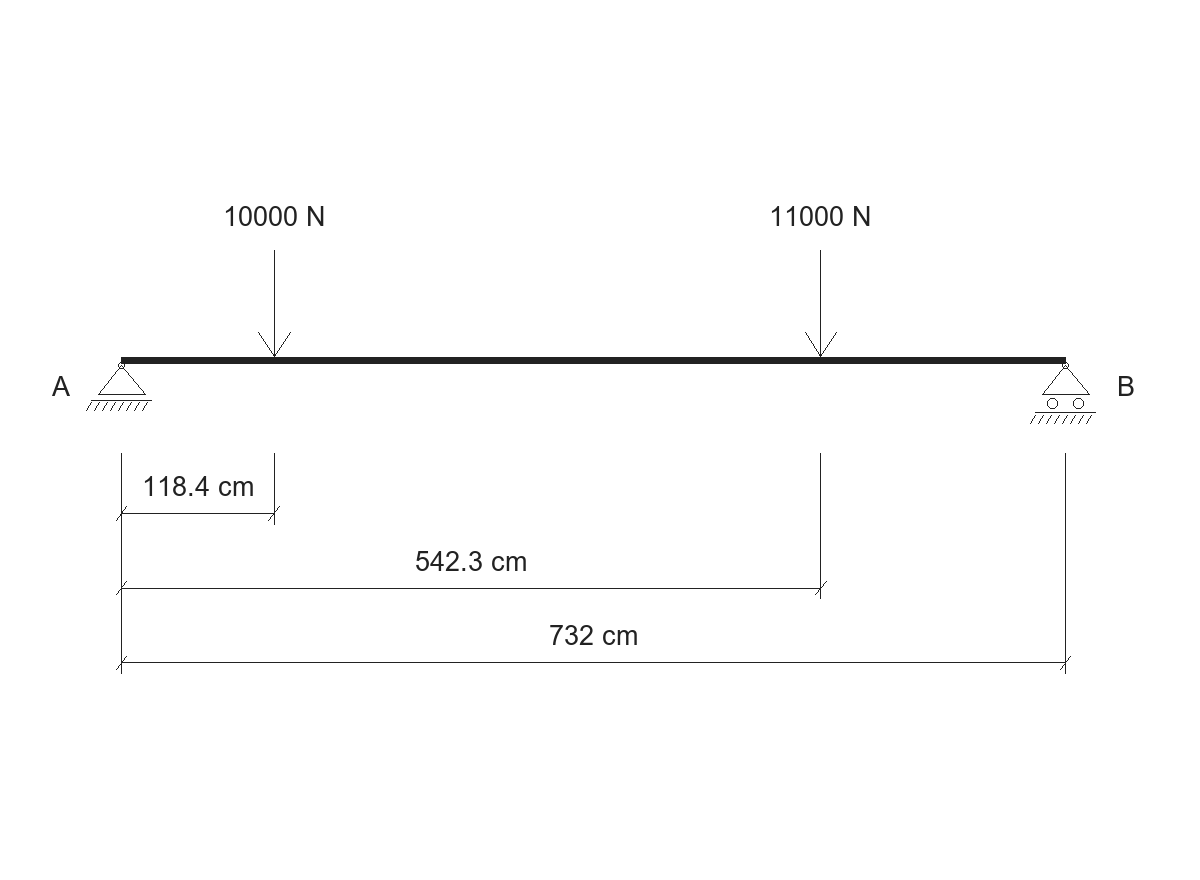pin_support: (86, 362, 152, 411)
point_load: (258, 250, 291, 357), (805, 250, 837, 357)
roller_support: (1030, 362, 1096, 424)
